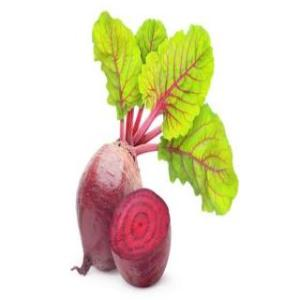beet: (76, 141, 142, 273), (111, 188, 173, 286)
